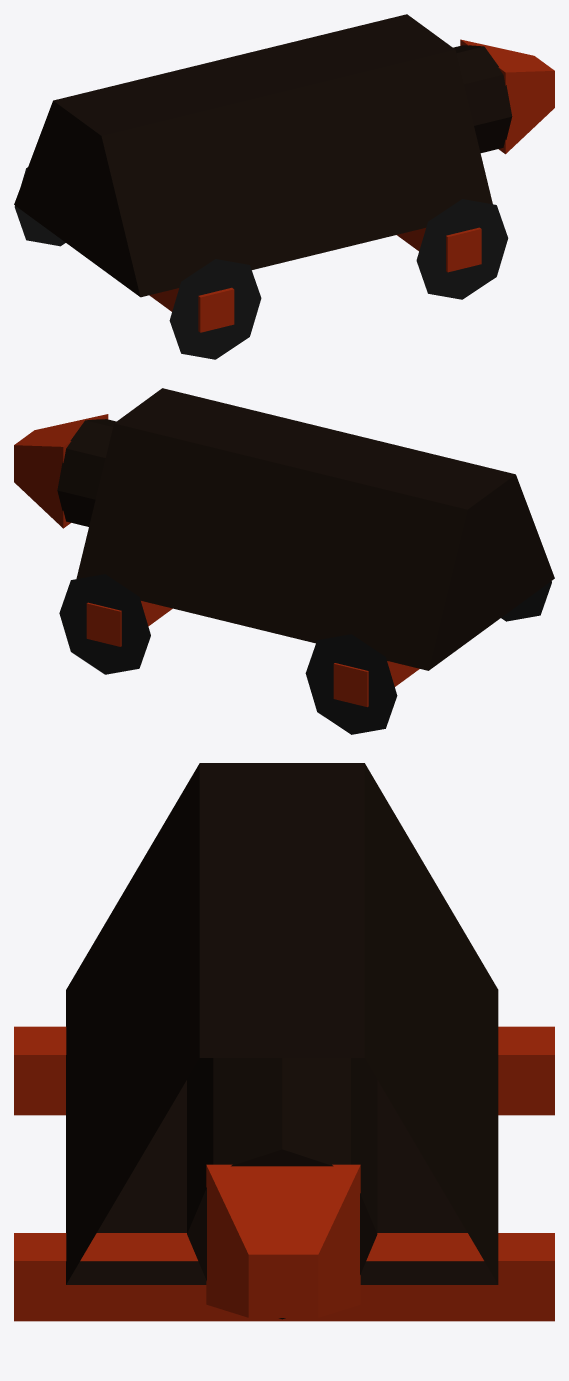
Rendered from heavybatteringram1.obj.
3 views of the same model, one above another, from view 1: azimuth 30°, elevation 25°; view 2: azimuth 150°, elevation 25°; view 3: azimuth 270°, elevation 25° (orthographic). The views are drawn at different scales.
Parts seen in each view (by area): view 1: Cube, Plane.003, Plane.002, Cube.003, Cube.002, Cube.001, Plane.001; view 2: Cube, Plane.001, Plane, Cube.003, Cube.002, Cube.001, Plane.002; view 3: Cube, Cube.001, Cube.003, Cube.002.
Boxes of the visible parts, box(x1,y1,x2,y2) form: Cube: box(14, 14, 512, 297); Plane.003: box(416, 199, 508, 299); Plane.002: box(169, 259, 261, 359); Cube.003: box(460, 39, 554, 154); Cube.002: box(149, 287, 234, 332); Cube.001: box(397, 227, 481, 272); Plane.001: box(14, 167, 65, 246); Cube: box(57, 388, 554, 670); Plane.001: box(305, 634, 397, 734); Plane: box(59, 574, 150, 674); Cube.003: box(14, 414, 108, 528); Cube.002: box(333, 661, 419, 707); Cube.001: box(86, 601, 172, 646); Plane.002: box(501, 581, 551, 621); Cube: box(66, 763, 498, 1319); Cube.001: box(14, 1233, 554, 1321); Cube.003: box(206, 1164, 360, 1317); Cube.002: box(14, 1026, 554, 1115).
Size of the model in its own units: 10.17 by 4.17 by 5.96.
